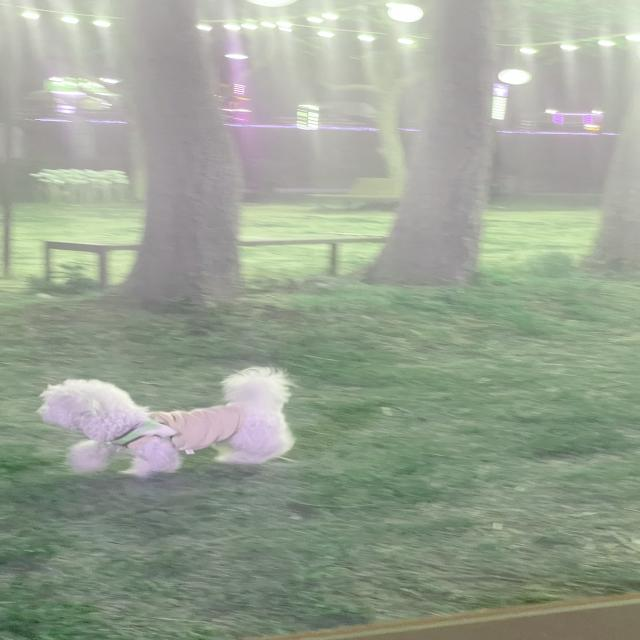Dog: (34, 367, 296, 479)
